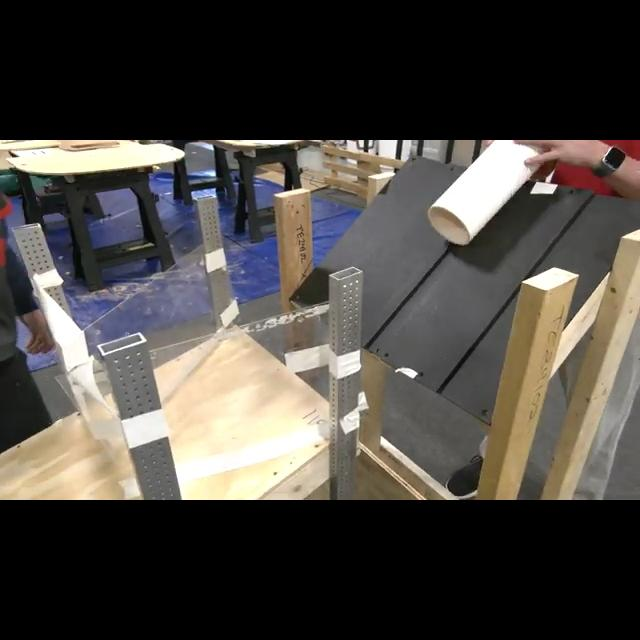CORAL: (426, 140, 546, 246)
